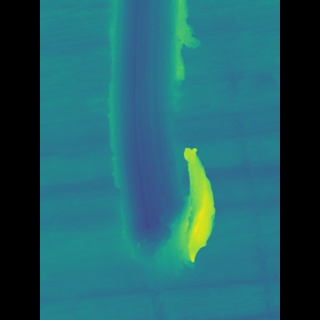Loch: (118, 0, 203, 277)
